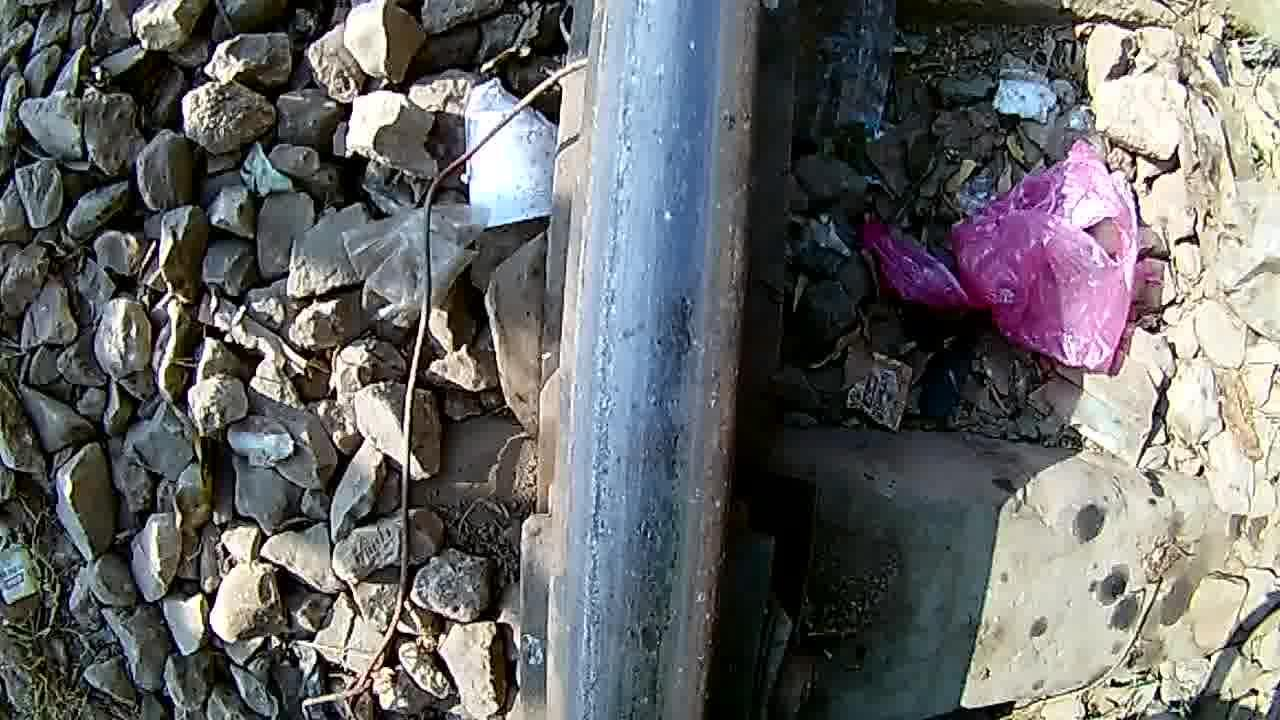crack: (573, 0, 743, 720)
